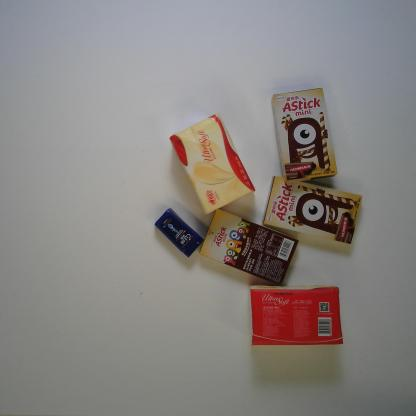Dessert: (197, 206, 301, 286), (260, 170, 364, 249), (271, 83, 340, 187)
Personal Hygiene: (155, 206, 205, 263)
Tissue: (166, 112, 256, 218), (246, 280, 348, 352)
